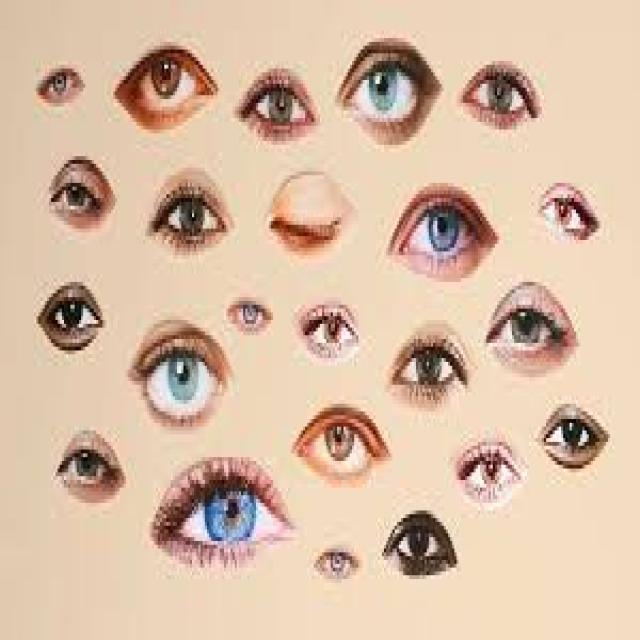Eyes-iris: (200, 472, 254, 546), (507, 302, 545, 351), (167, 352, 201, 406), (322, 414, 353, 470), (367, 61, 399, 115), (425, 209, 461, 252), (151, 55, 184, 99), (180, 193, 205, 243), (486, 72, 512, 114), (164, 347, 168, 355)
